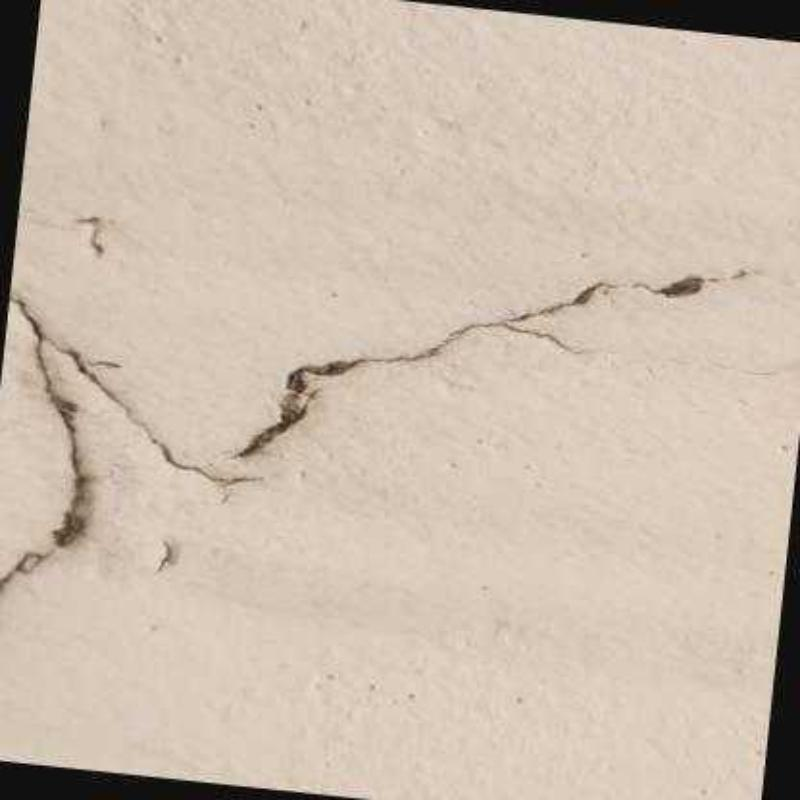pothole: (227, 264, 756, 466), (0, 291, 268, 592)
